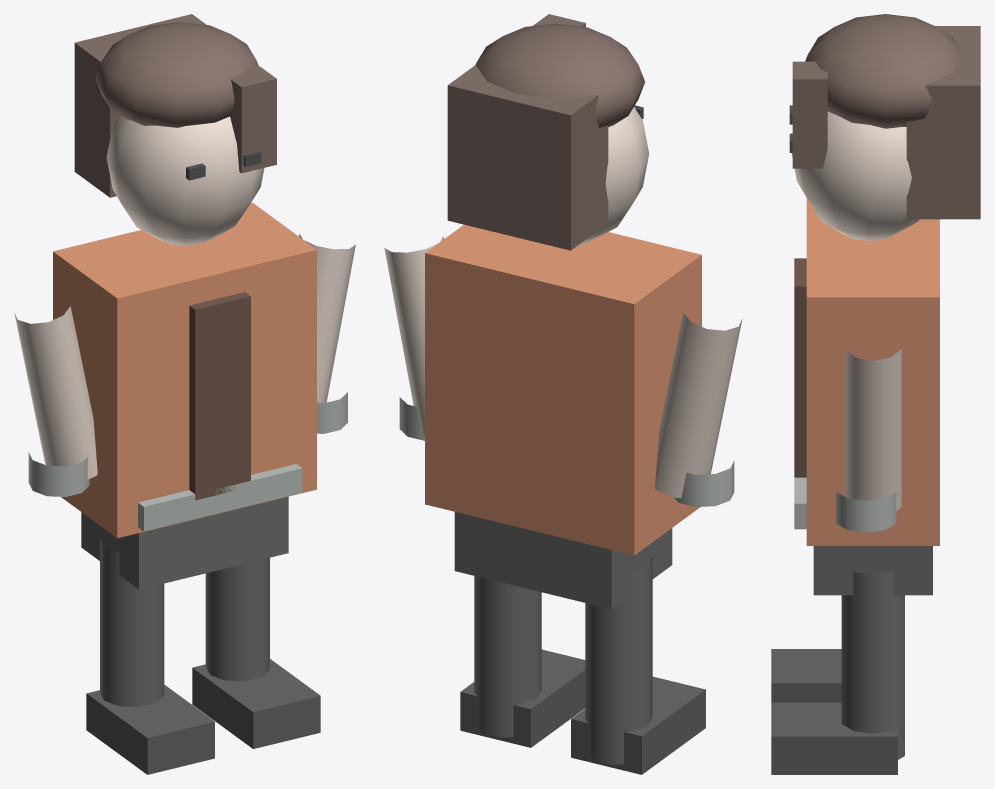
Rendered from viktor.glb.
3 views of the same model, side by side, from view 1: azimuth 30°, elevation 25°; view 2: azimuth 150°, elevation 25°; view 3: azimuth 270°, elevation 25° (orthographic). The views are drawn at different scales.
Visible parts, largest first — view 1: Torso, Head, HairCap, Vest, Pelvis, ArmL, LegL, FootL, FootR, LegR, HairBack, Belt (+4 smaller); view 2: Torso, HairBack, Pelvis, HairCap, LegL, ArmL, LegR, FootL, FootR, ArmR, Head, CuffL (+1 smaller); view 3: Torso, HairCap, HairBack, Head, LegR, ArmR, FootR, Pelvis, FootL, HairLock, Vest, CuffR (+1 smaller).
Part boxes in pixels (x1,y1,x2,y2): Torso: [53, 202, 316, 538]; Head: [106, 115, 264, 245]; HairCap: [95, 22, 258, 127]; Vest: [189, 292, 250, 500]; Pelvis: [81, 496, 288, 589]; ArmL: [14, 306, 97, 479]; LegL: [100, 539, 164, 707]; FootL: [86, 685, 214, 774]; FootR: [192, 659, 320, 748]; LegR: [205, 558, 269, 681]; HairBack: [74, 14, 206, 197]; Belt: [138, 464, 302, 531]; Torso: [425, 224, 701, 555]; HairBack: [447, 65, 608, 250]; Pelvis: [454, 512, 672, 609]; HairCap: [475, 23, 644, 127]; LegL: [585, 556, 652, 764]; ArmL: [655, 312, 742, 498]; LegR: [474, 576, 541, 737]; FootL: [571, 676, 705, 774]; FootR: [460, 649, 585, 747]; ArmR: [384, 236, 443, 436]; Head: [579, 107, 649, 244]; CuffL: [673, 461, 734, 506]; Torso: [806, 198, 939, 545]; HairCap: [805, 14, 963, 128]; HairBack: [906, 26, 980, 219]; Head: [791, 111, 919, 241]; LegR: [841, 572, 904, 759]; ArmR: [845, 349, 901, 510]; FootR: [771, 702, 897, 774]; Pelvis: [813, 546, 932, 595]; FootL: [771, 649, 841, 702]; HairLock: [792, 61, 827, 168]; Vest: [794, 258, 806, 477]; CuffR: [836, 492, 896, 532].
Size of the model in its own units: 1.14 by 2.21 by 0.595.
